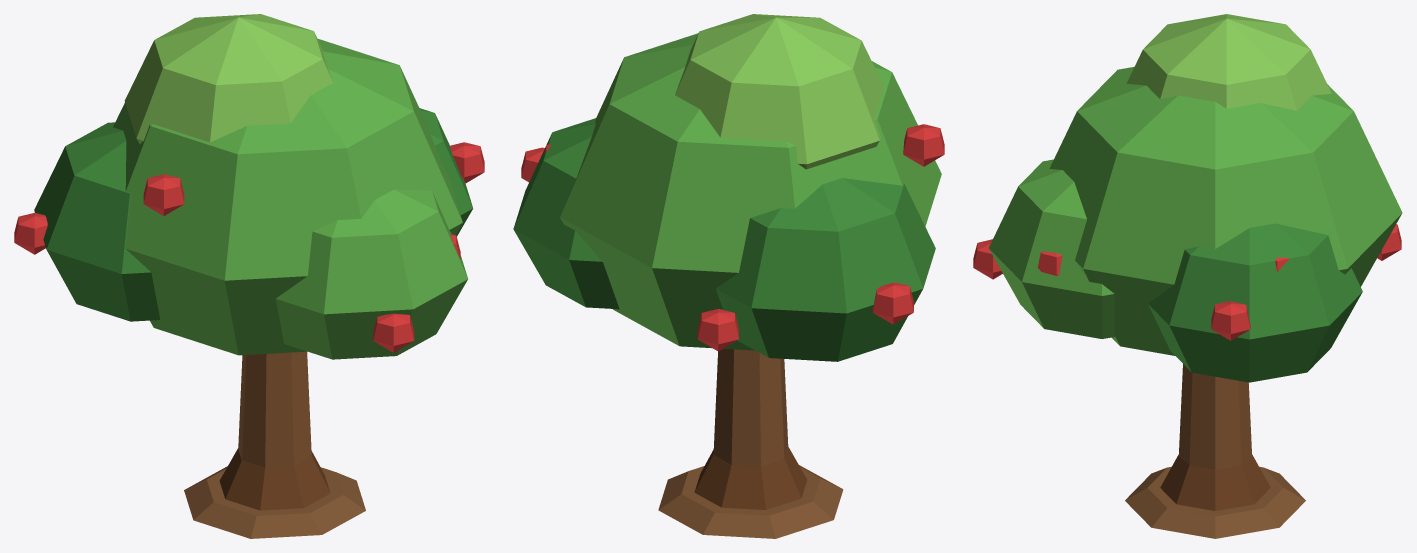
File: apple-tree-1x1.glb
3 renders of one model, left to right at view 1: azimuth 30°, elevation 25°; view 2: azimuth 150°, elevation 25°; view 3: azimuth 270°, elevation 25°, orthographic. The views are drawn at different scales.
Parts seen in each view (by area): view 1: apple-tree-1x1; view 2: apple-tree-1x1; view 3: apple-tree-1x1.
Part boxes in pixels (x1,y1,x2,y2): apple-tree-1x1: [14, 14, 484, 538]; apple-tree-1x1: [513, 14, 944, 538]; apple-tree-1x1: [973, 14, 1402, 538].
Bounding box in the file's own units: 0.8391 × 0.91 × 0.7569.
Materials: 1 (1 with a texture image).
